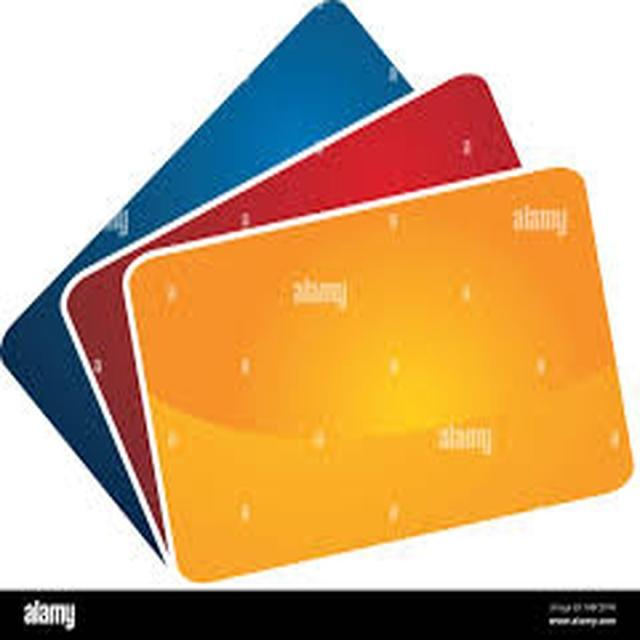card: (9, 19, 625, 577), (35, 68, 572, 566), (4, 16, 468, 559), (146, 166, 620, 581)
